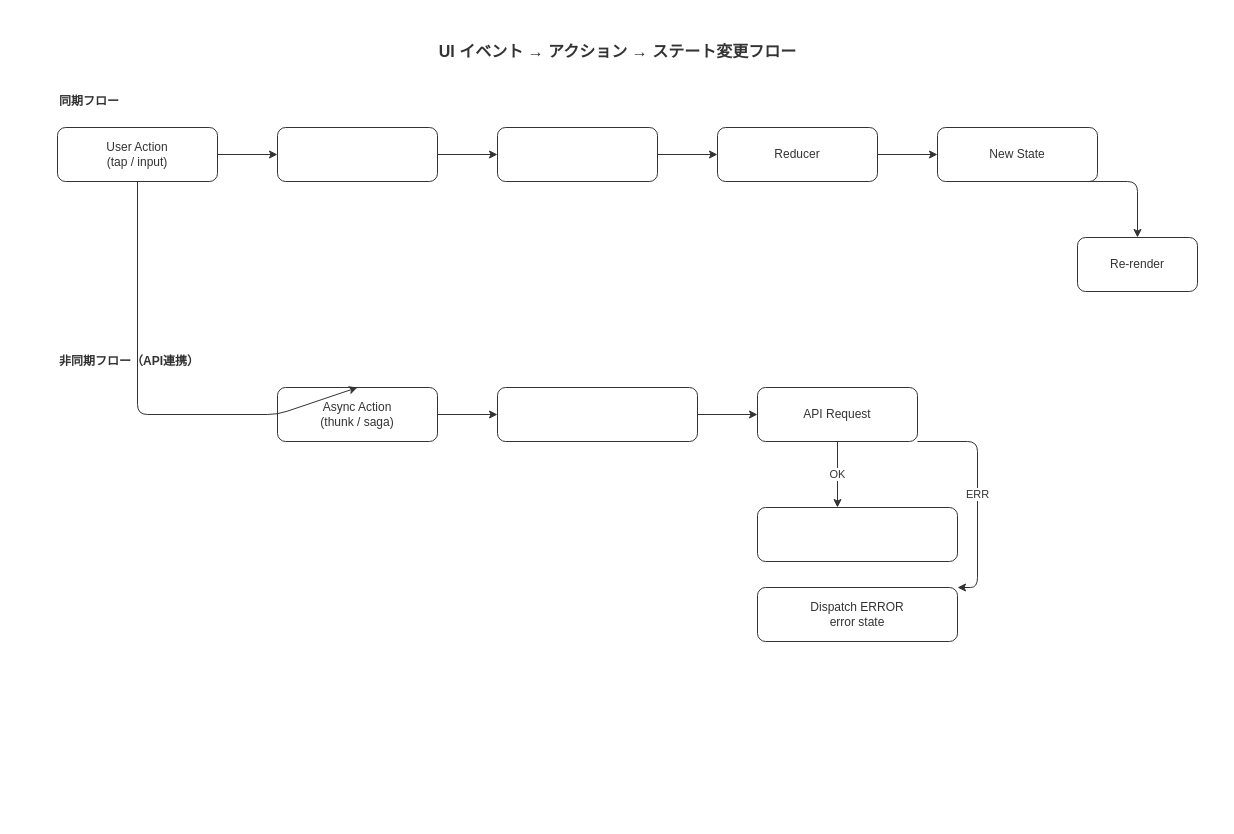
The diagram is 1234 pixels wide and 834 high, and some of its shapes have lost their labels. The shapes that lost their labels are listed below. From the top down, each one's centre as x and y in pixels, then its label:
At (x=357, y=154): "Event Handler".
At (x=577, y=154): "Dispatch action".
At (x=597, y=414): "loading state = true Dispatch LOADING".
At (x=857, y=534): "Dispatch SUCCESS New state (data)".
